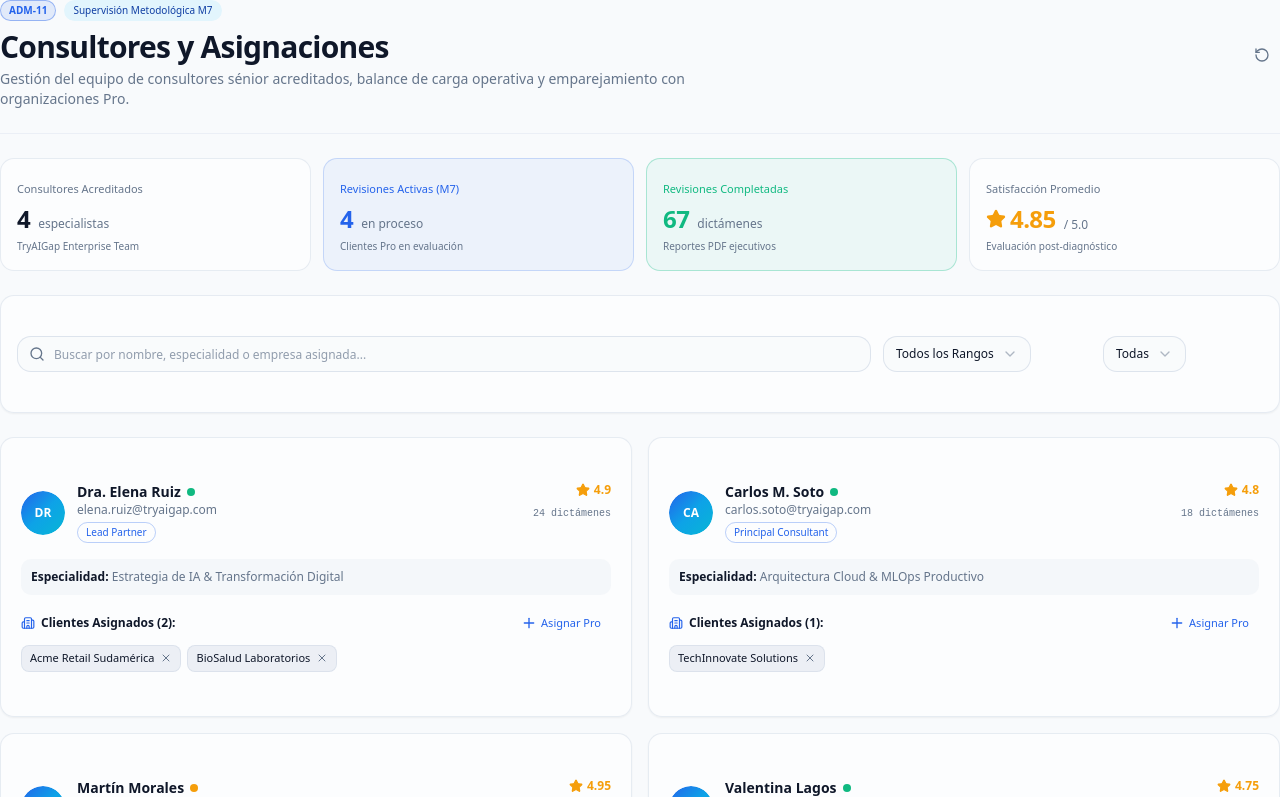
Test: AdminConsultants Page › opens assignment modal when clicking assign pro button
Click the button "Asignar Pro" below "24". click: click(561, 623)
box: x1=511 y1=611 x2=611 y2=635
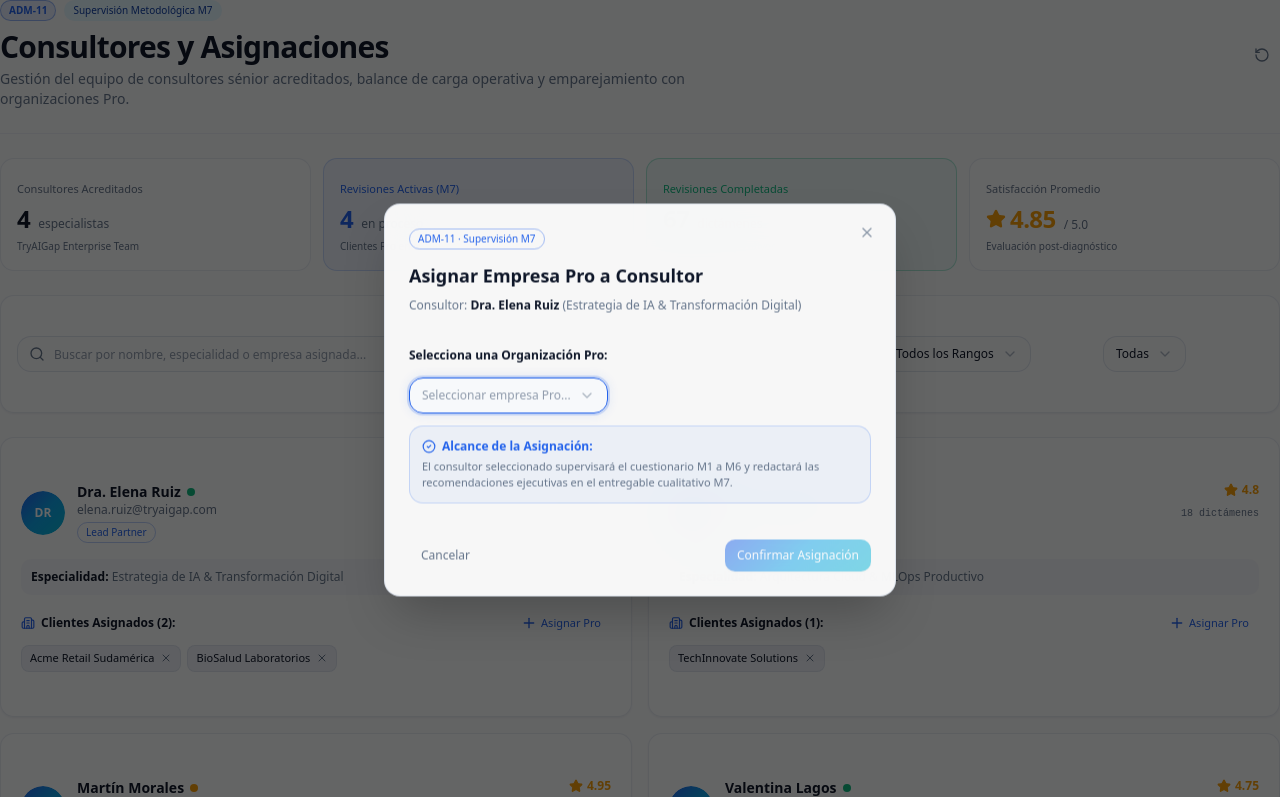
Expected: the dialog is shown, x1=384 y1=204 x2=896 y2=596
Expected: the heading "Asignar Empresa Pro a Consultor" is shown, x1=409 y1=264 x2=703 y2=288
